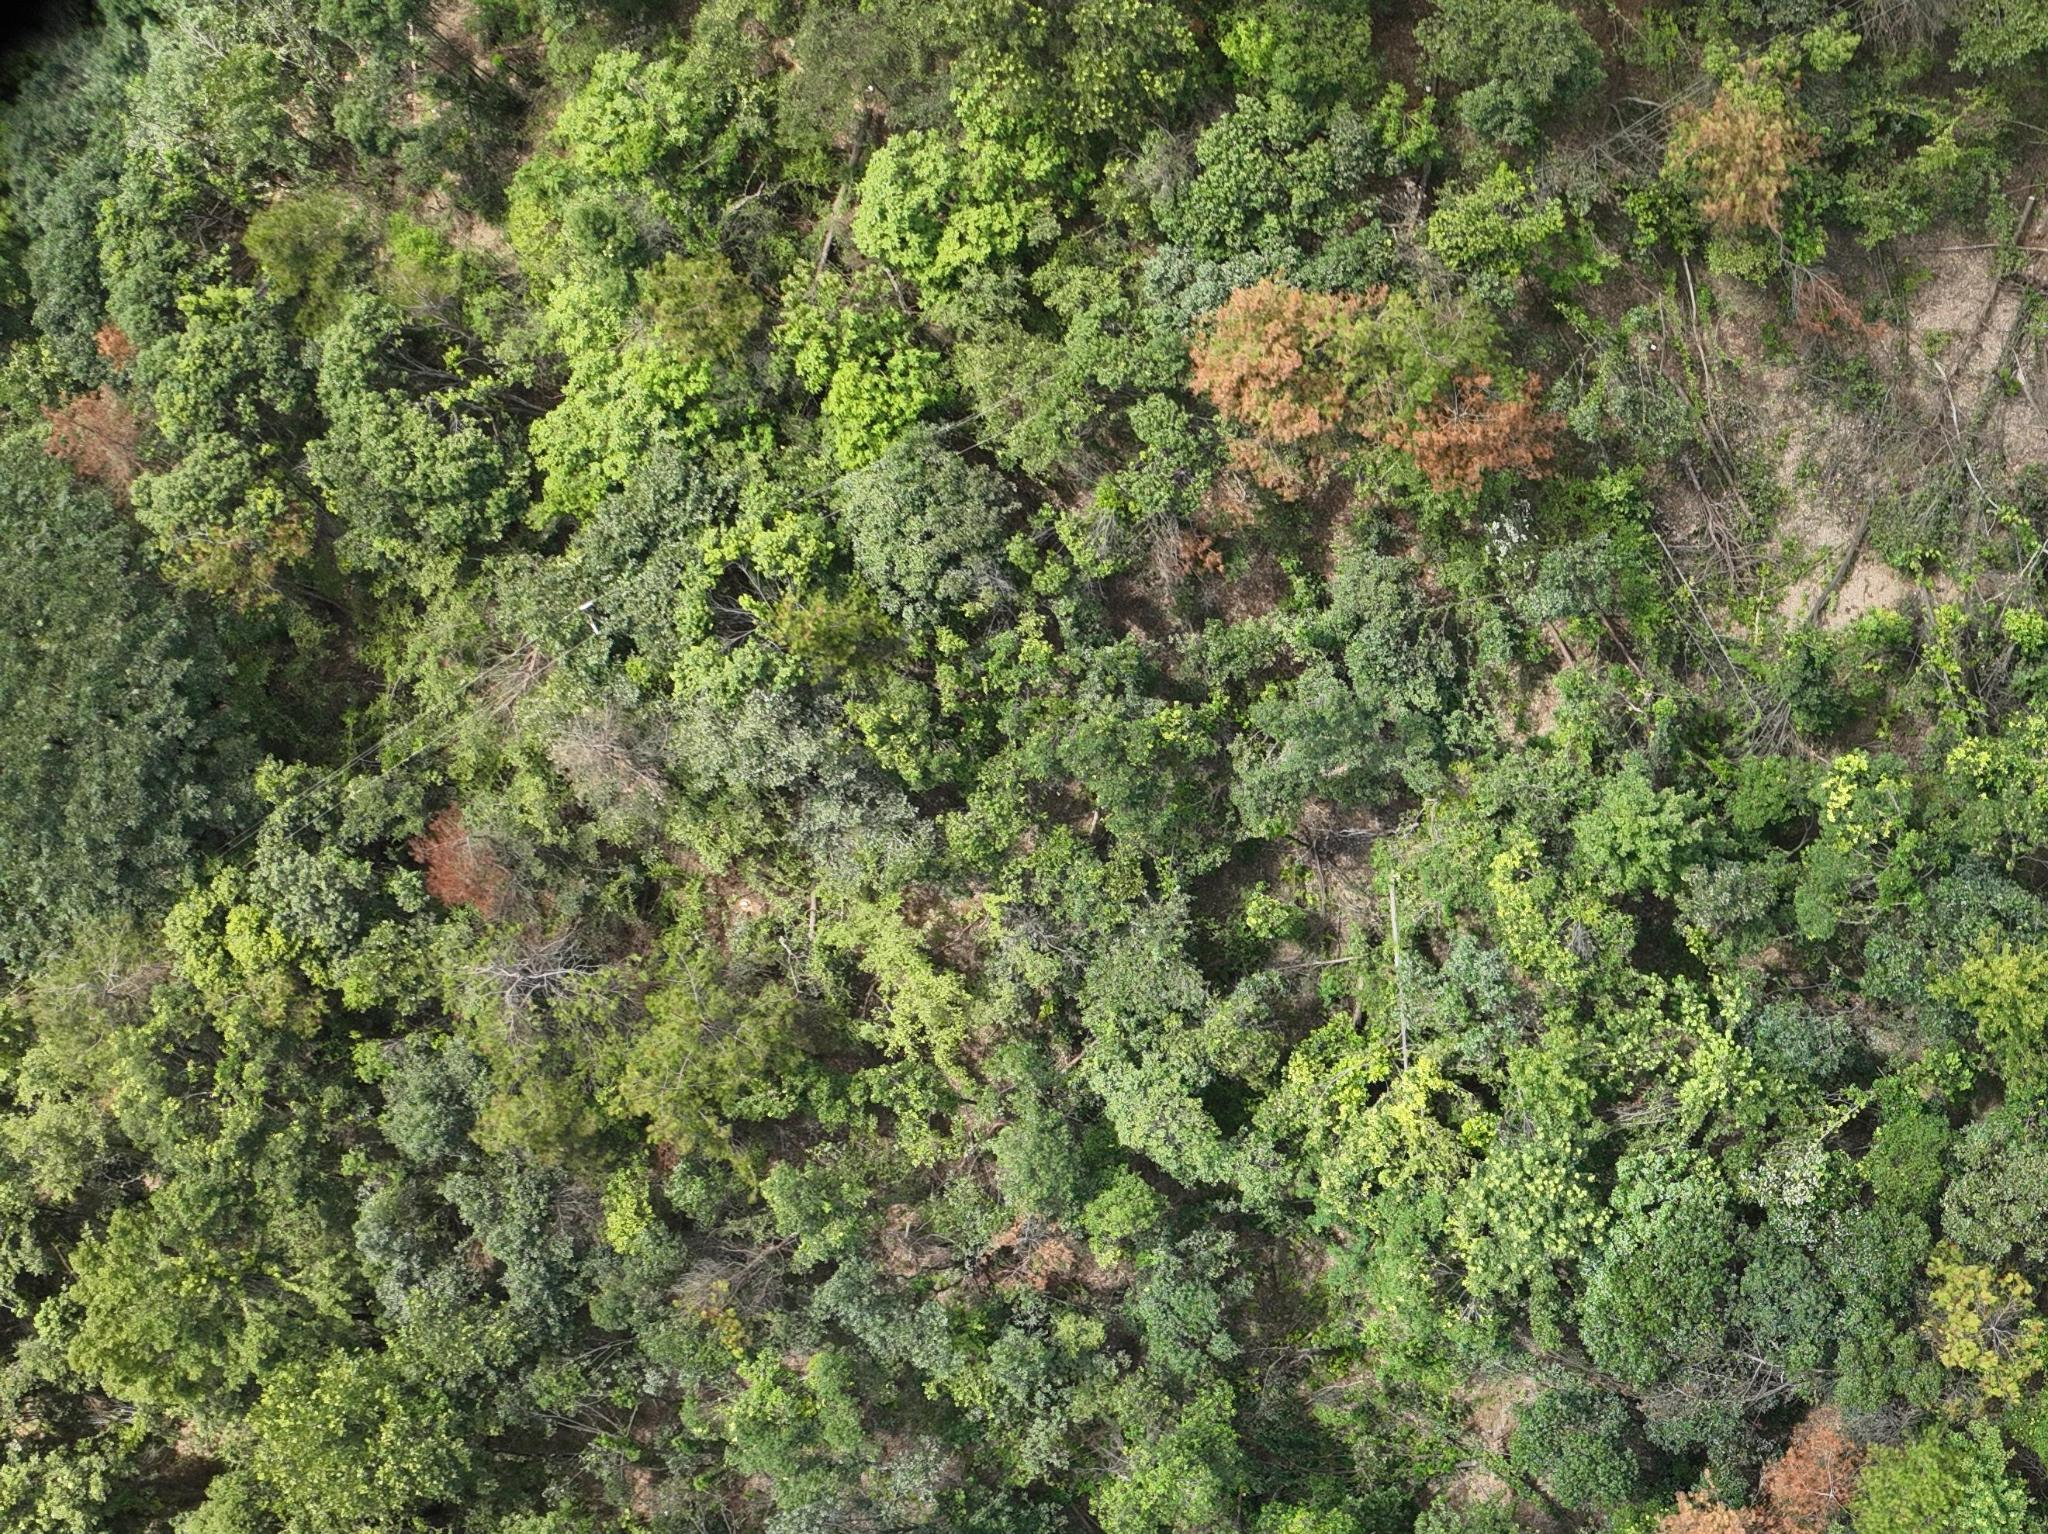dead: (556, 704, 661, 799), (487, 936, 601, 1010)
heavy: (1184, 267, 1362, 504), (1660, 69, 1824, 250), (1399, 377, 1561, 488), (44, 324, 140, 500), (1766, 1407, 1855, 1531), (408, 798, 493, 918), (1789, 263, 1890, 354), (1648, 1487, 1748, 1534)
light: (1929, 1258, 2035, 1395)
